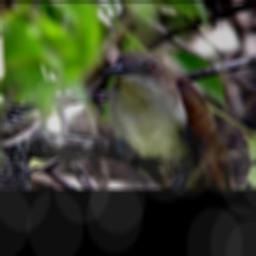Cuckoo: (100, 50, 233, 189)
